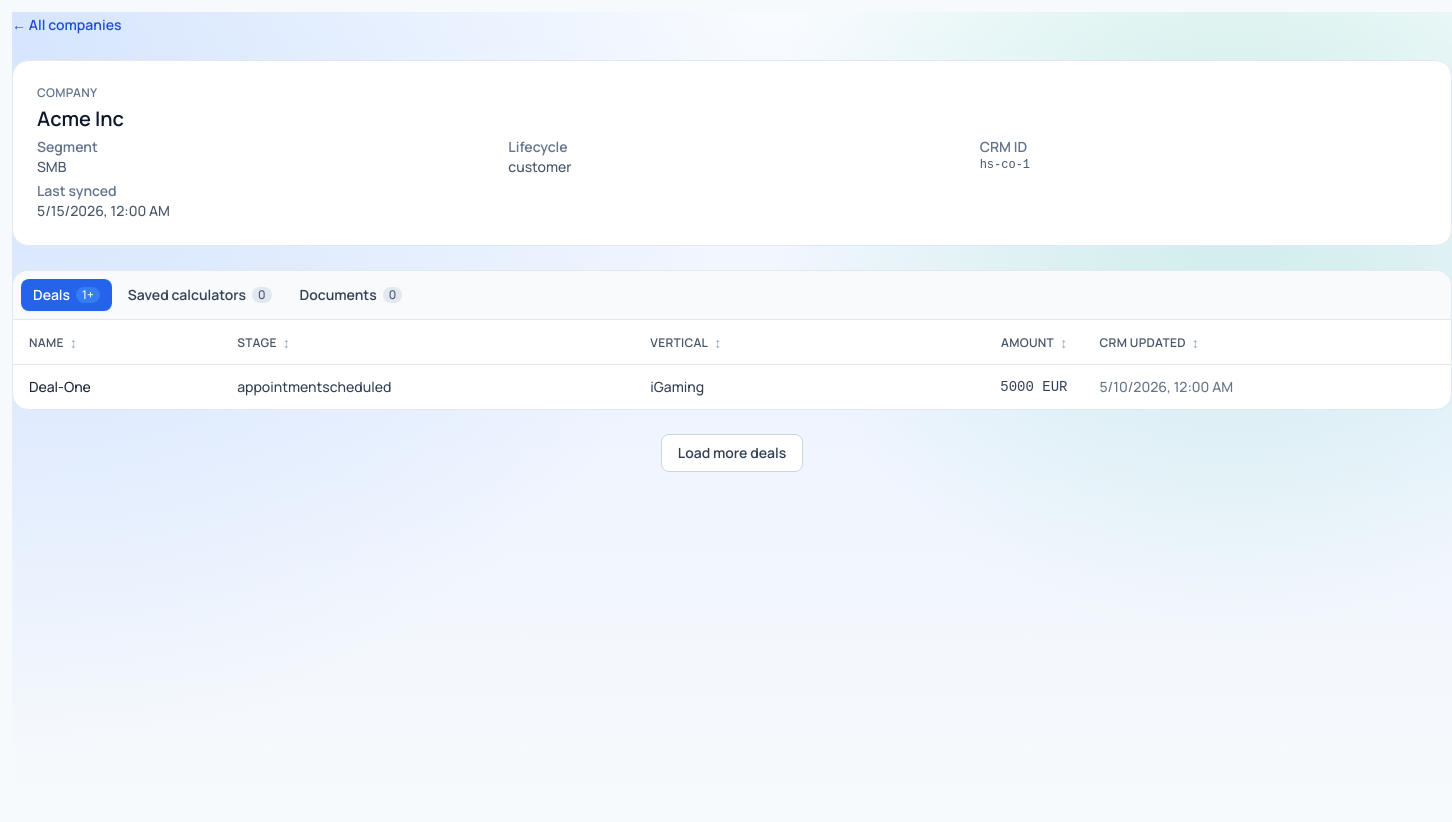
CompanyDetailPage — deals table › paginates deals via Load more
The width and height of the screenshot is (1452, 822).
Check: the text "Deal-One" is shown, box x1=13 y1=364 x2=221 y2=409
What coordinates should you click on to do the following:
click the button "Load more deals"
I would click on:
 (732, 453)
Its box is x1=661 y1=434 x2=803 y2=472.
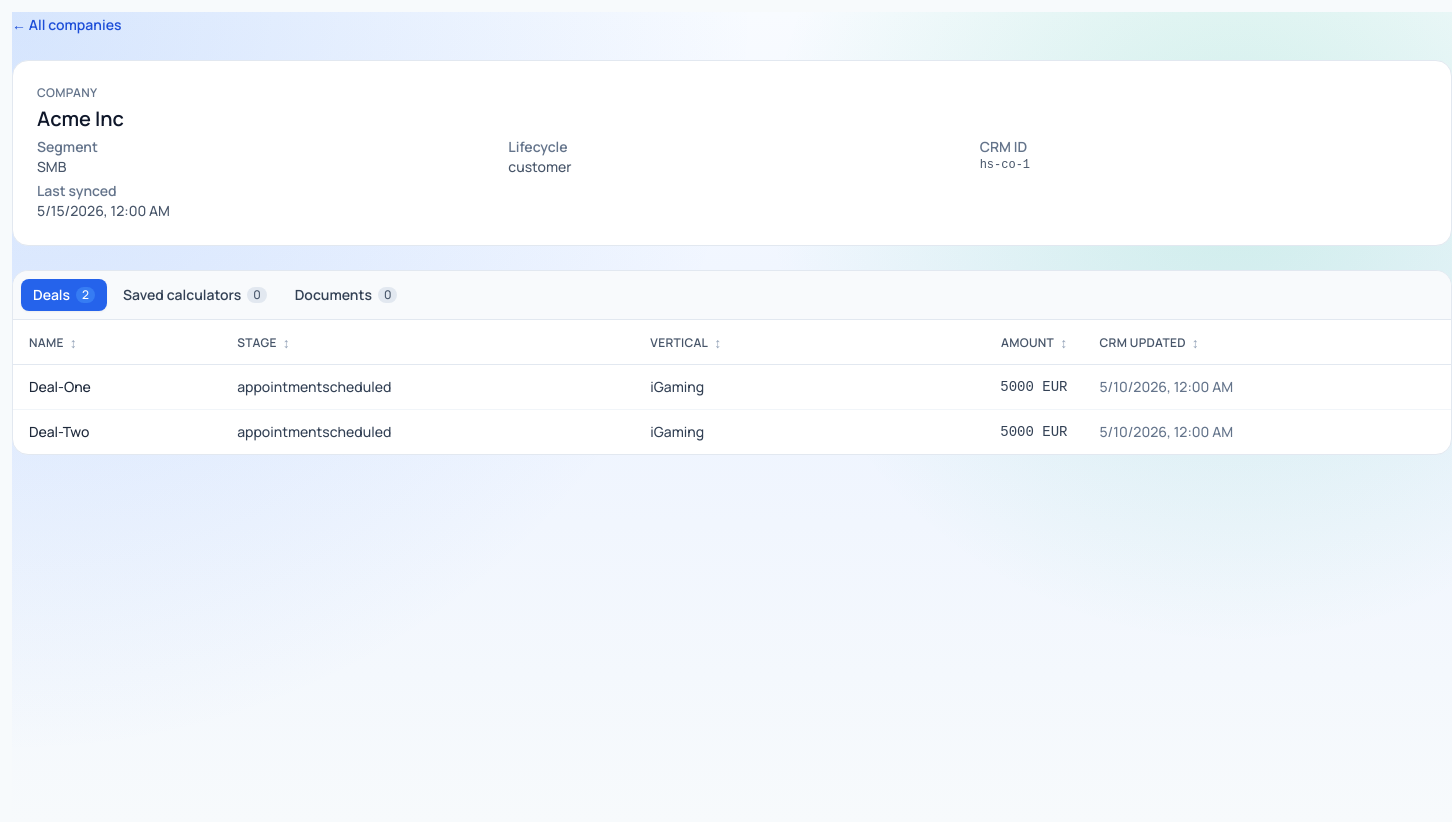
Check: the text "Deal-Two" is shown, box x1=13 y1=410 x2=221 y2=454
Check: the button "Load more deals" is gone
